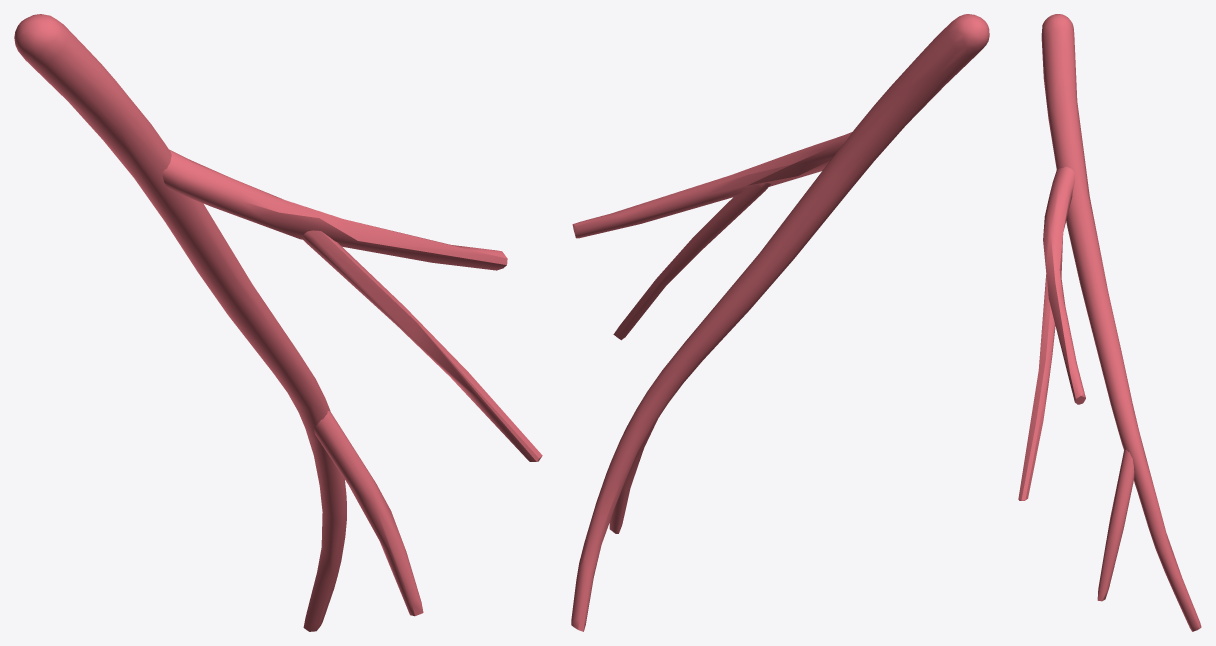
Rendered from fma9450_cx293.glb.
3 views of the same model, side by side, from view 1: azimuth 30°, elevation 25°; view 2: azimuth 150°, elevation 25°; view 3: azimuth 270°, elevation 25° (orthographic). The views are drawn at different scales.
Parts seen in each view (by area): view 1: FMA9450_CX293; view 2: FMA9450_CX293; view 3: FMA9450_CX293.
Boxes of the visible parts, left/top/right/bottom form: FMA9450_CX293: left=14, top=14, right=542, bottom=631; FMA9450_CX293: left=571, top=14, right=989, bottom=631; FMA9450_CX293: left=1018, top=14, right=1201, bottom=631.
Size of the model in its own units: 0.0589 by 0.0877 by 0.0292.
